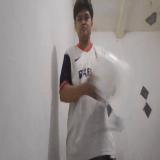Helmet: (94, 53, 120, 99)
